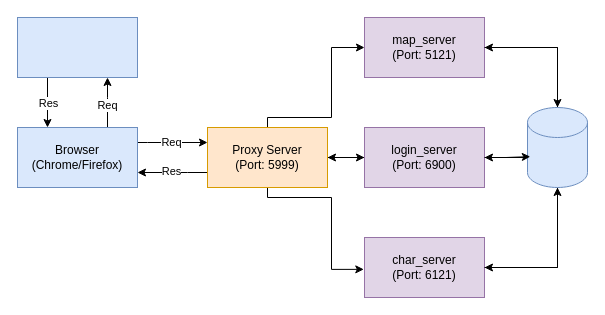
Image size: 605x315. Some labels were removed from this diagram. Each missing label, with the centre of its shape:
Database: the point at 557,147
RoBrowser Server (Port: 80/8080): the point at 77,47
